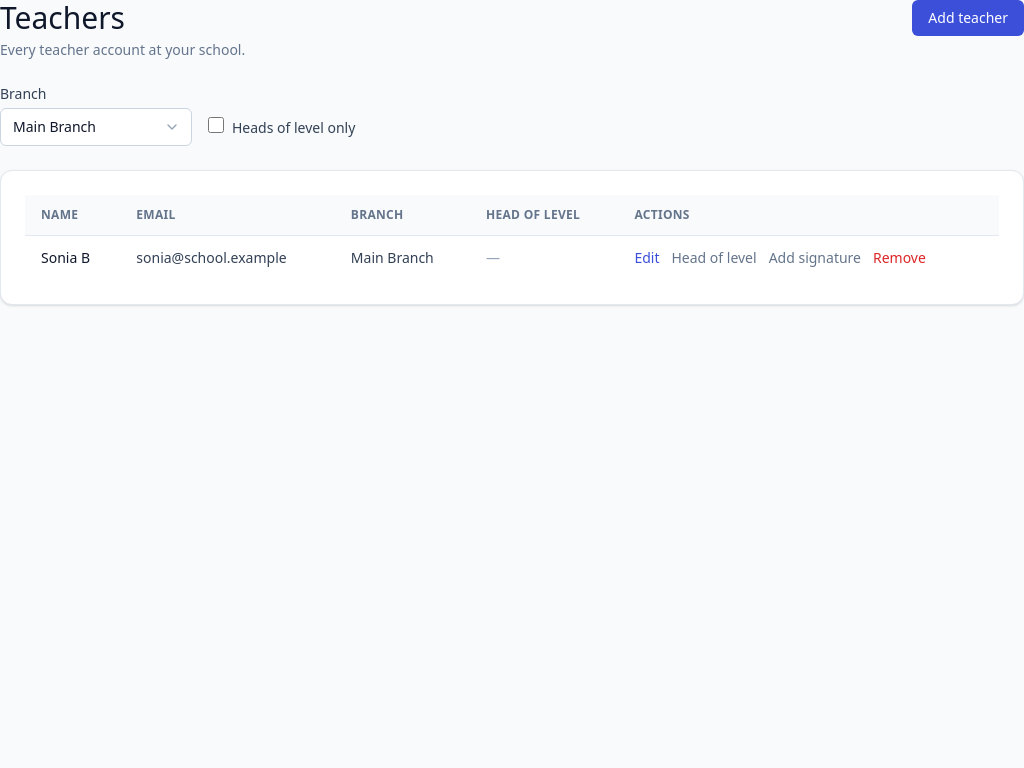
Test: TeachersPage › removes a teacher after confirming, showing the assignments that will be cleared
The width and height of the screenshot is (1024, 768).
Click the button "Remove".
click(899, 258)  # box [873, 248, 926, 268]
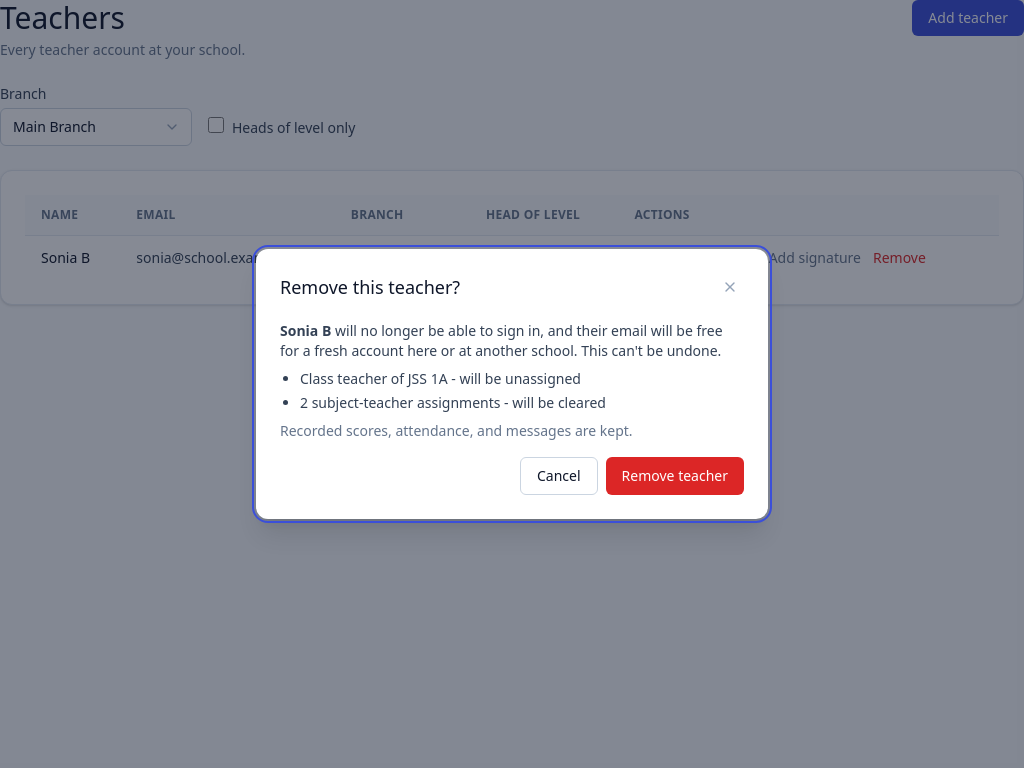
Result: the list item "Class teacher of JSS 1A - will be unassigned" is shown at [300, 369, 581, 388]
Result: the list item "2 subject-teacher assignments - will be cleared" is shown at [300, 393, 606, 412]
Click the button "Remove teacher".
click(675, 476)  # box [606, 457, 744, 495]
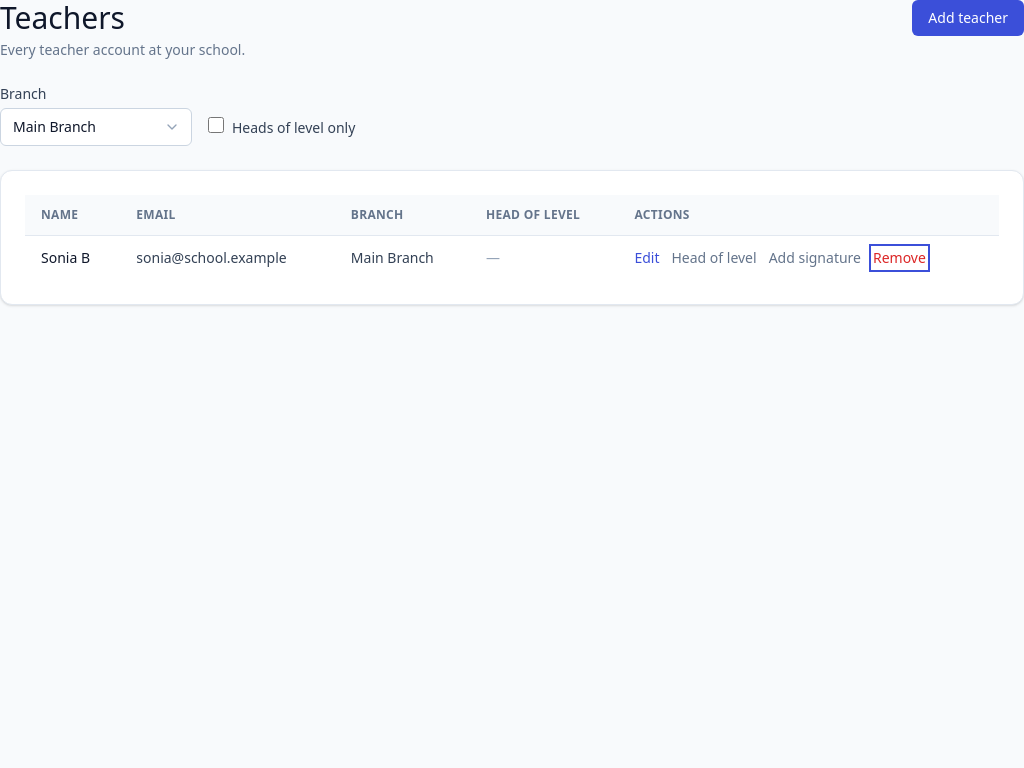
Result: the dialog is gone
